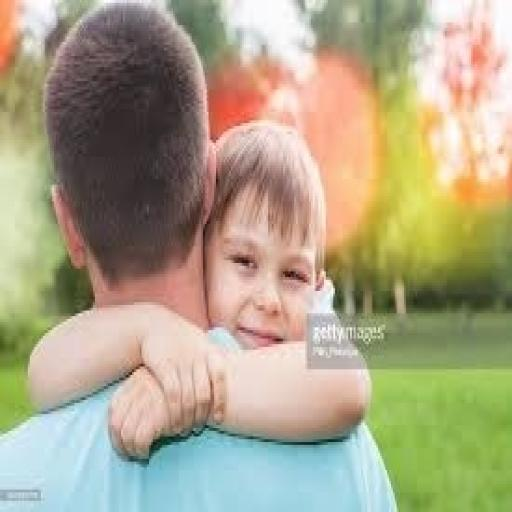hugging: (0, 0, 398, 509)
